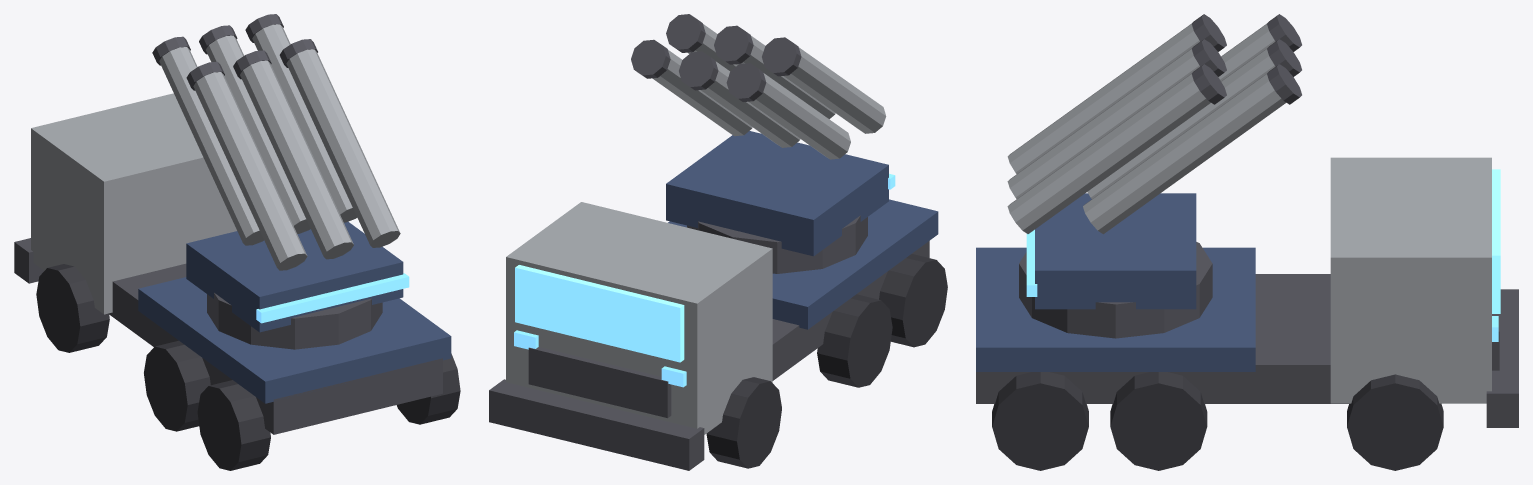
Rendered from us_paladin.glb.
3 renders of one model, left to right at view 1: azimuth 30°, elevation 25°; view 2: azimuth 150°, elevation 25°; view 3: azimuth 270°, elevation 25°, orthographic. The views are drawn at different scales.
Visible parts, largest first — view 1: Cab, Bed, LauncherBase, Chassis, Tube, Tube.002, Tube.004, Wheel.002, Turntable, Tube.001, Wheel, Wheel.001 (+7 smaller); view 2: Cab, LauncherBase, Windshield, Bumper, Bed, Grill, Wheel.001, Wheel, Wheel.002, Tube.001, Tube, Turntable (+11 smaller); view 3: Cab, Bed, LauncherBase, Chassis, Tube.005, Tube.004, Wheel.004, Wheel.005, Wheel.003, Turntable, Tube, Tube.002 (+11 smaller).
Part boxes in pixels (left/top/right/bottom): Cab: left=31, top=93, right=236, bottom=314; Bed: left=138, top=277, right=451, bottom=403; LauncherBase: left=186, top=221, right=403, bottom=332; Chassis: left=108, top=263, right=442, bottom=434; Tube: left=193, top=72, right=307, bottom=270; Tube.002: left=240, top=60, right=353, bottom=259; Tube.004: left=286, top=49, right=400, bottom=247; Wheel.002: left=197, top=380, right=270, bottom=470; Turntable: left=207, top=293, right=382, bottom=349; Tube.001: left=159, top=47, right=263, bottom=245; Wheel: left=36, top=264, right=109, bottom=352; Wheel.001: left=144, top=340, right=210, bottom=431; Cab: left=506, top=202, right=772, bottom=434; LauncherBase: left=666, top=131, right=888, bottom=256; Windshield: left=515, top=265, right=684, bottom=362; Bumper: left=489, top=379, right=704, bottom=470; Bed: left=668, top=199, right=938, bottom=329; Grill: left=528, top=347, right=671, bottom=418; Wheel.001: left=817, top=294, right=892, bottom=387; Wheel: left=706, top=377, right=781, bottom=468; Wheel.002: left=879, top=254, right=947, bottom=347; Tube.001: left=748, top=73, right=850, bottom=159; Tube: left=783, top=47, right=886, bottom=133; Turntable: left=687, top=215, right=867, bottom=273; Cab: left=1330, top=157, right=1491, bottom=403; Bed: left=976, top=247, right=1255, bottom=371; LauncherBase: left=1035, top=193, right=1196, bottom=309; Chassis: left=976, top=274, right=1349, bottom=403; Tube.005: left=1083, top=73, right=1286, bottom=234; Tube.004: left=1007, top=74, right=1210, bottom=233; Wheel.004: left=1110, top=372, right=1207, bottom=470; Wheel.005: left=992, top=372, right=1088, bottom=470; Wheel.003: left=1347, top=374, right=1443, bottom=470; Turntable: left=1019, top=242, right=1212, bottom=338; Tube: left=1007, top=24, right=1199, bottom=173; Tube.002: left=1007, top=49, right=1199, bottom=198.
Size of the model in its own units: 2.59 by 3.81 by 5.05.
